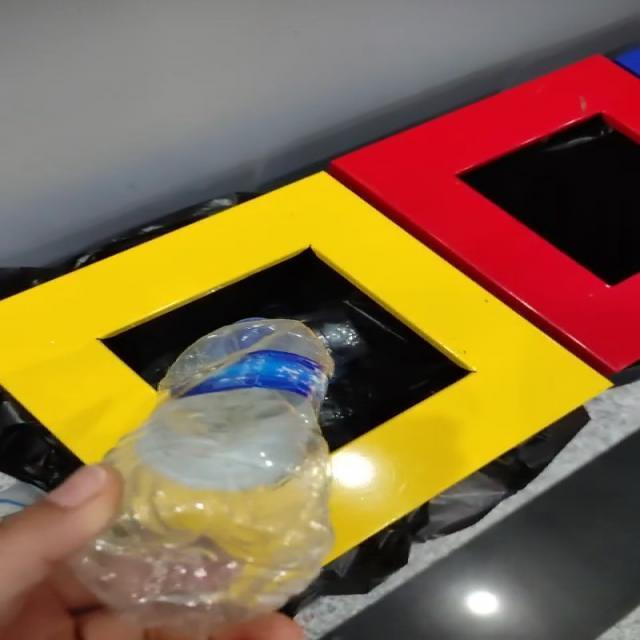Plastic: (75, 320, 335, 636)
